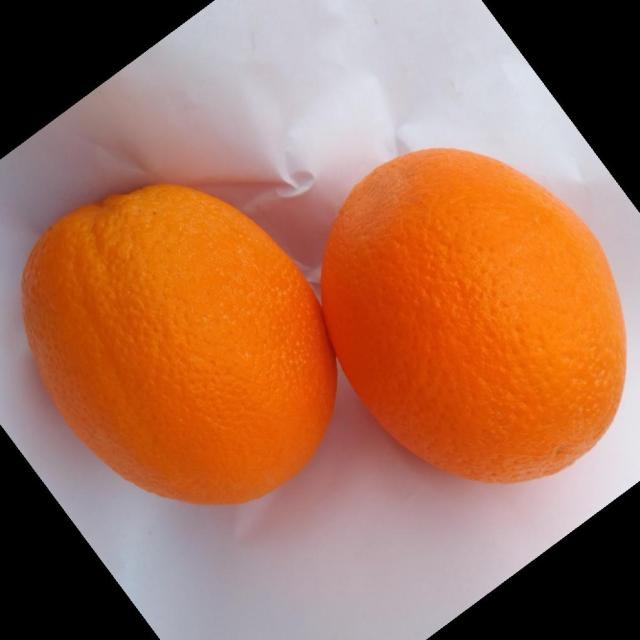agrume: (319, 146, 627, 485), (19, 181, 337, 506)
